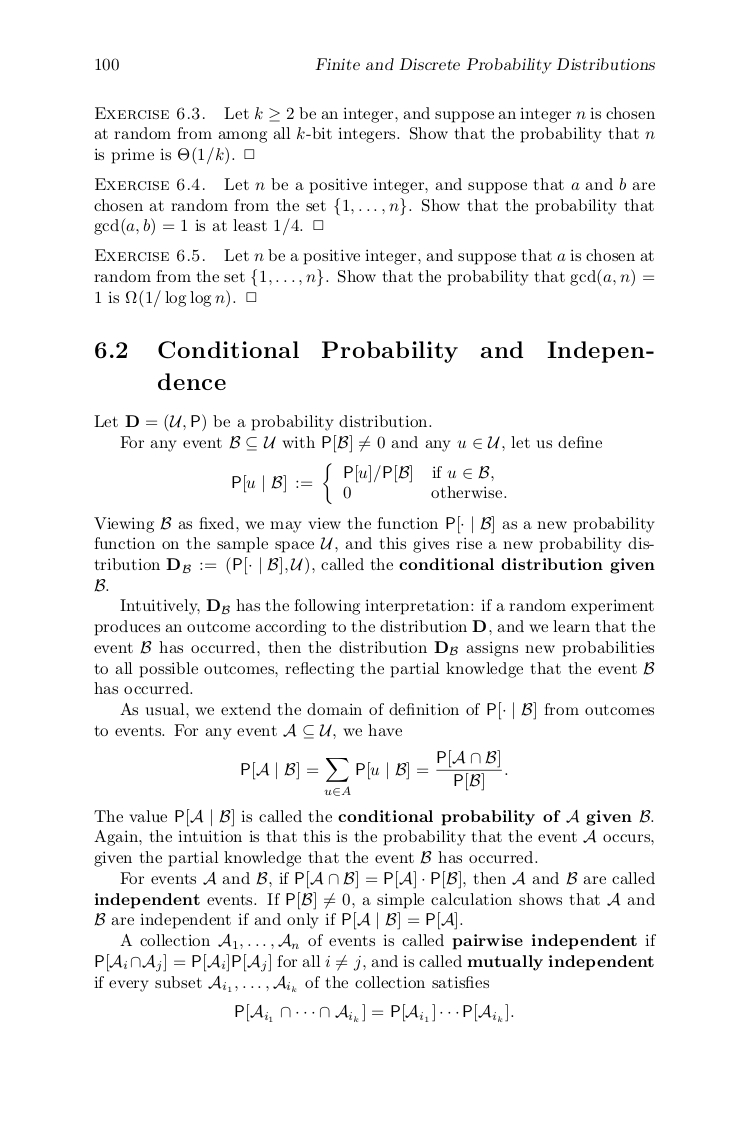formula: (241, 749, 507, 796), (232, 462, 506, 504), (235, 1002, 513, 1022)
